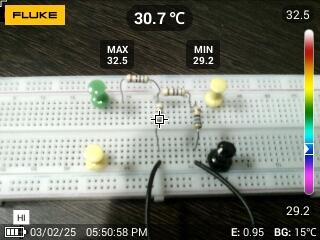resistor: (191, 103, 204, 132), (160, 85, 188, 98), (124, 72, 150, 85), (154, 101, 166, 127)
